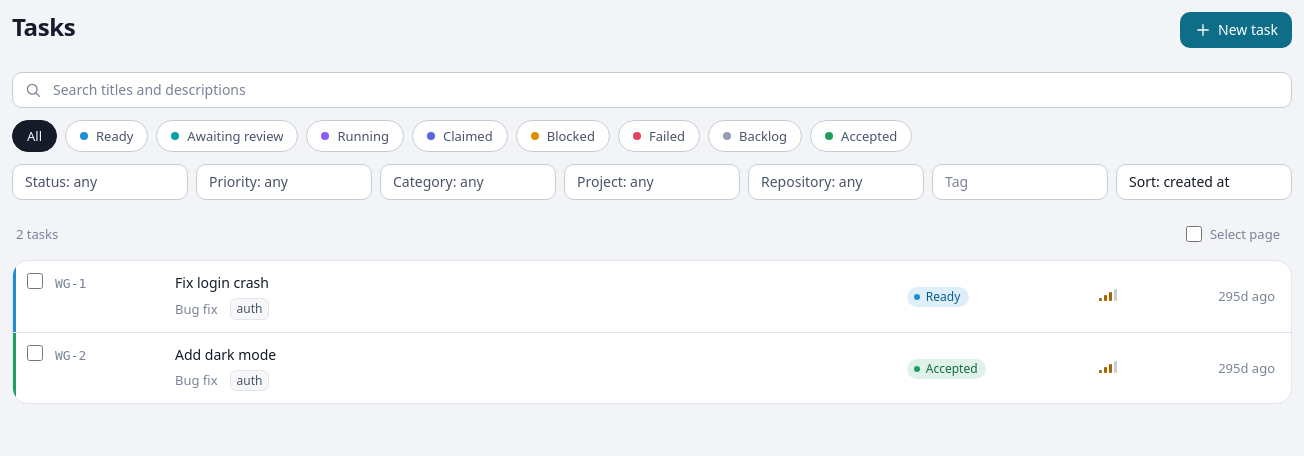
Test: TasksPage › renders task rows and refetches with filters
The image size is (1304, 456).
Check: the text "Fix login crash" is shown, box [175,273,269,292]
Check: the text "Add dark mode" is shown, box [175,345,276,364]
Select "Blocked" in the dropdown named "Status" at (100, 182), box [12,164,188,200]
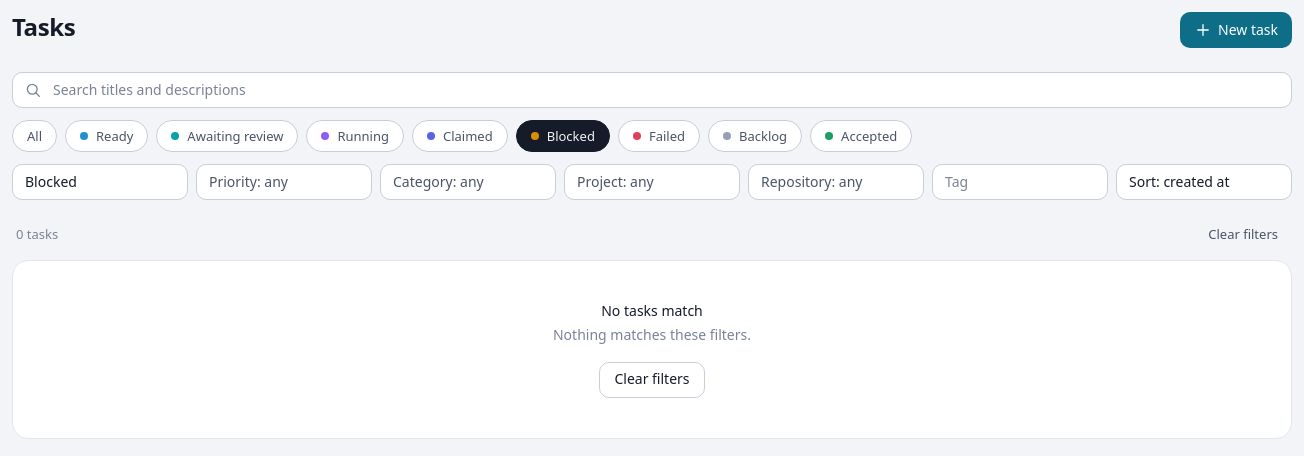
Check: the text "No tasks match" is shown, box [601,301,703,321]
